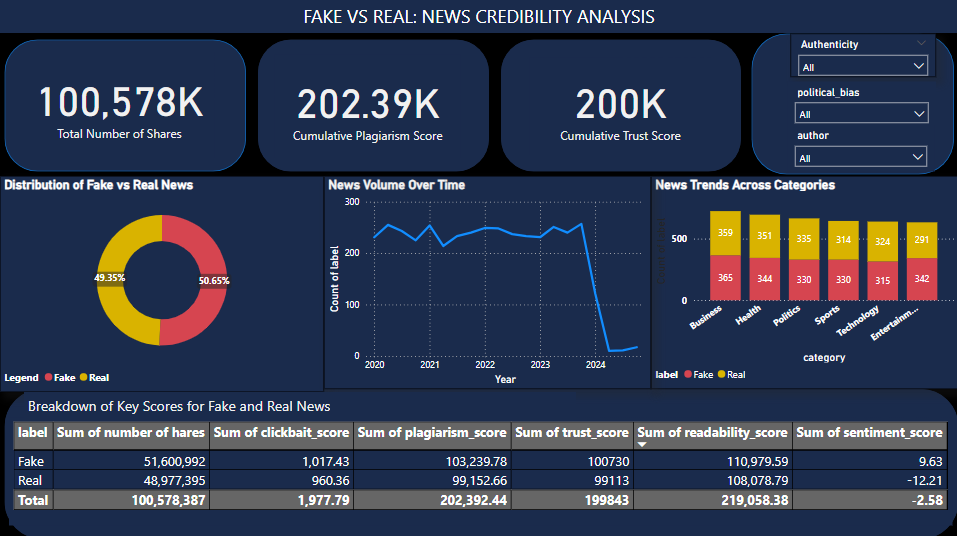

The page's visual inventory and layout, read from the dashboard file:
{"tool":"powerbi","page":{"name":"Page 1","canvas":[1280,720],"ordinal":0},"visuals":[{"type":"shape","box":[6,54,322,176],"z":0},{"type":"shape","box":[668,54,320,176],"z":500},{"type":"shape","box":[6,520,1272,200],"z":1000},{"type":"shape","box":[344,54,308,176],"z":1500},{"type":"shape","box":[1002,46,270,188],"z":2000},{"type":"donutChart","title":"Distribution of Fake vs Real News","fields":{"Category":["fake_news_dataset (1).label"],"Y":["fake_news_dataset (1).label"]},"box":[0,236,432,288],"z":3000},{"type":"columnChart","title":"News Trends Across Categories","fields":{"Y":["fake_news_dataset (1).label"],"Category":["fake_news_dataset (1).category"],"Series":["fake_news_dataset (1).label"]},"box":[868,236,410,284],"z":4000},{"type":"card","fields":{"Values":["fake_news_dataset (1).trust_score"]},"box":[706,78,242,130],"z":5000},{"type":"slicer","fields":{"Values":["fake_news_dataset (1).author"]},"box":[1050,168,196,62],"z":6000},{"type":"card","fields":{"Values":["fake_news_dataset (1).plagiarism_score"]},"box":[366,74,248,138],"z":7000},{"type":"lineChart","title":"News Volume Over Time","fields":{"Category":["fake_news_dataset (1).date_published.Variation.Date Hierarchy.Year","fake_news_dataset (1).date_published.Variation.Date Hierarchy.Quarter"],"Y":["fake_news_dataset (1).label"]},"box":[432,236,436,284],"z":8000},{"type":"slicer","fields":{"Values":["fake_news_dataset (1).label"]},"box":[1054,46,194,58],"z":9000},{"type":"slicer","fields":{"Values":["fake_news_dataset (1).political_bias"]},"box":[1050,110,198,58],"z":10000},{"type":"tableEx","fields":{"Values":["fake_news_dataset (1).label","fake_news_dataset (1).num_shares","fake_news_dataset (1).clickbait_score","fake_news_dataset (1).plagiarism_score","fake_news_dataset (1).trust_score","fake_news_dataset (1).readability_score","fake_news_dataset (1).sentiment_score"]},"box":[12,558,1258,144],"z":11000},{"type":"textbox","box":[32,524,736,36],"z":12000},{"type":"textbox","box":[0,0,1277.5,45],"z":13000},{"type":"card","fields":{"Values":["fake_news_dataset (1).num_shares"]},"box":[32,68,254,144],"z":14000}]}

Visuals, with their boxes in screenshot pixels (x1, y1, x2, y2), scaled from the page's 1280x720 canvas onto the 957x536 screenshot:
shape: (left=4, top=40, right=245, bottom=171)
shape: (left=499, top=40, right=739, bottom=171)
shape: (left=4, top=387, right=956, bottom=535)
shape: (left=257, top=40, right=487, bottom=171)
shape: (left=749, top=34, right=951, bottom=174)
"Distribution of Fake vs Real News" donutChart: (left=0, top=176, right=323, bottom=390)
"News Trends Across Categories" columnChart: (left=649, top=176, right=956, bottom=387)
card - fake_news_dataset (1).trust_score: (left=528, top=58, right=709, bottom=155)
slicer - fake_news_dataset (1).author: (left=785, top=125, right=932, bottom=171)
card - fake_news_dataset (1).plagiarism_score: (left=274, top=55, right=459, bottom=158)
"News Volume Over Time" lineChart: (left=323, top=176, right=649, bottom=387)
slicer - fake_news_dataset (1).label: (left=788, top=34, right=933, bottom=77)
slicer - fake_news_dataset (1).political_bias: (left=785, top=82, right=933, bottom=125)
tableEx - fake_news_dataset (1).label x fake_news_dataset (1).num_shares: (left=9, top=415, right=950, bottom=523)
textbox: (left=24, top=390, right=574, bottom=417)
textbox: (left=0, top=0, right=955, bottom=34)
card - fake_news_dataset (1).num_shares: (left=24, top=51, right=214, bottom=158)
